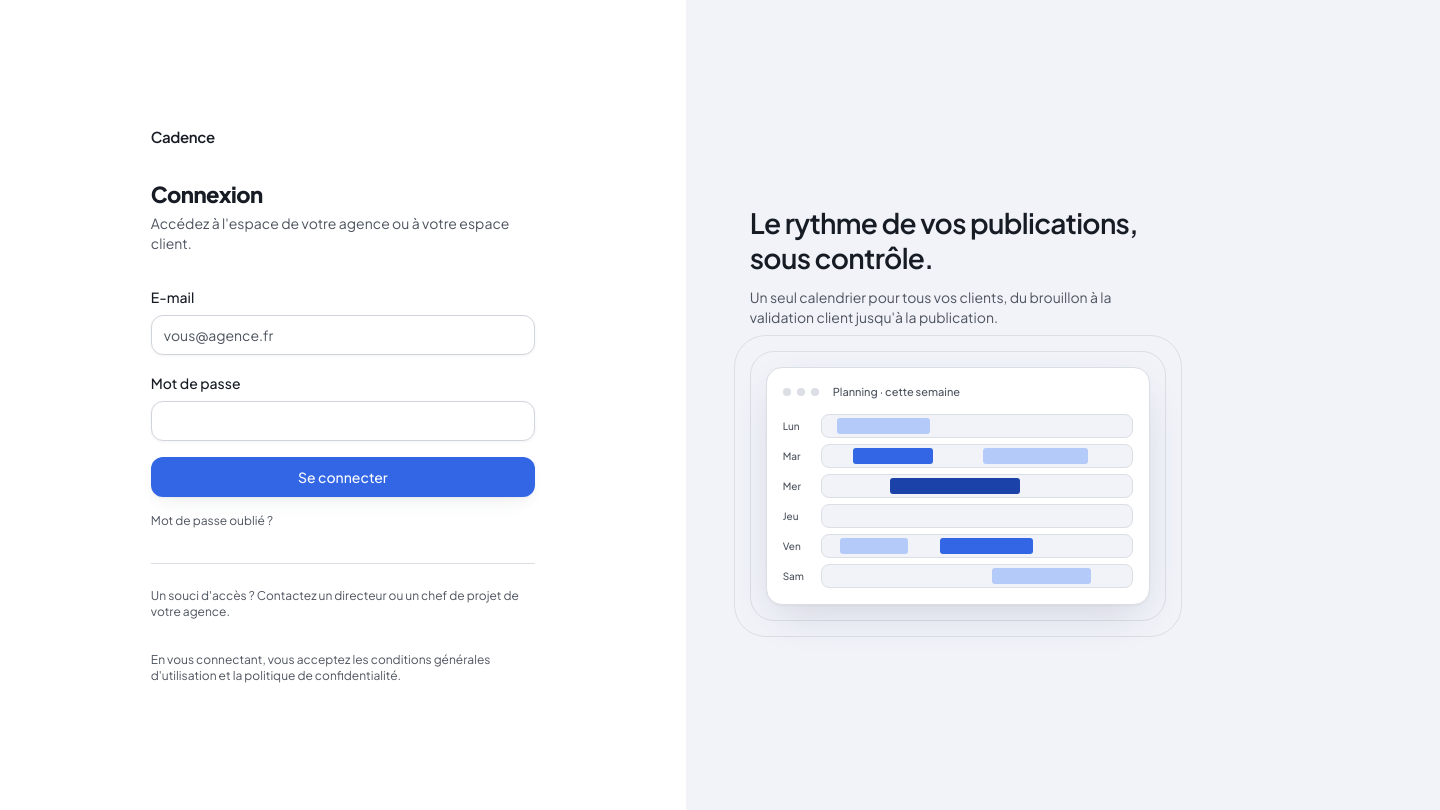
Test case: LoginPage › affiche le message pour des identifiants invalides
The width and height of the screenshot is (1440, 810).
Type "x@example.test" into the field labelled "E-mail".
click(343, 335); type("x@example.test")  # box [151,315,535,355]
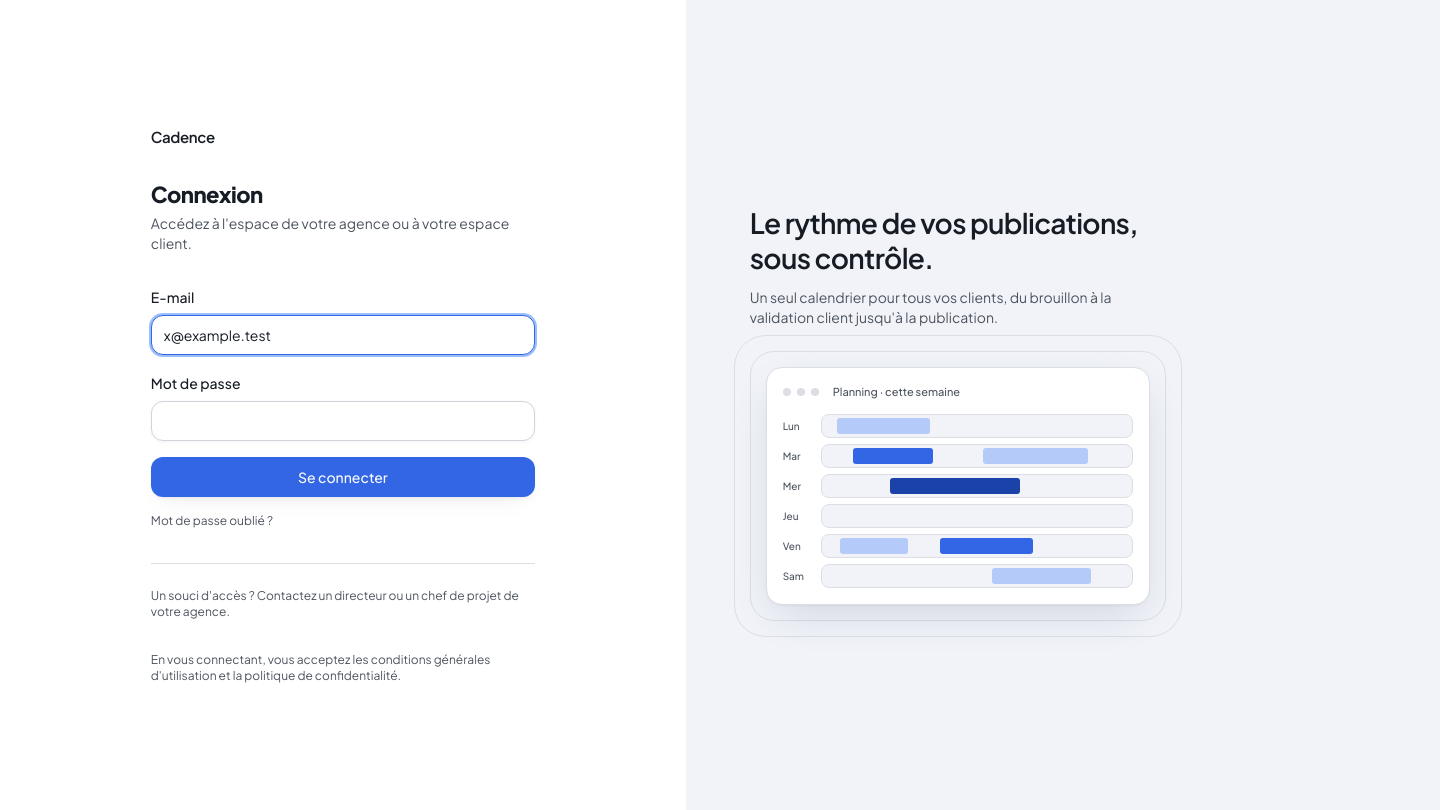
Type "bad" into the password field labelled "Mot de passe".
click(343, 421); type("bad")  # box [151,401,535,441]
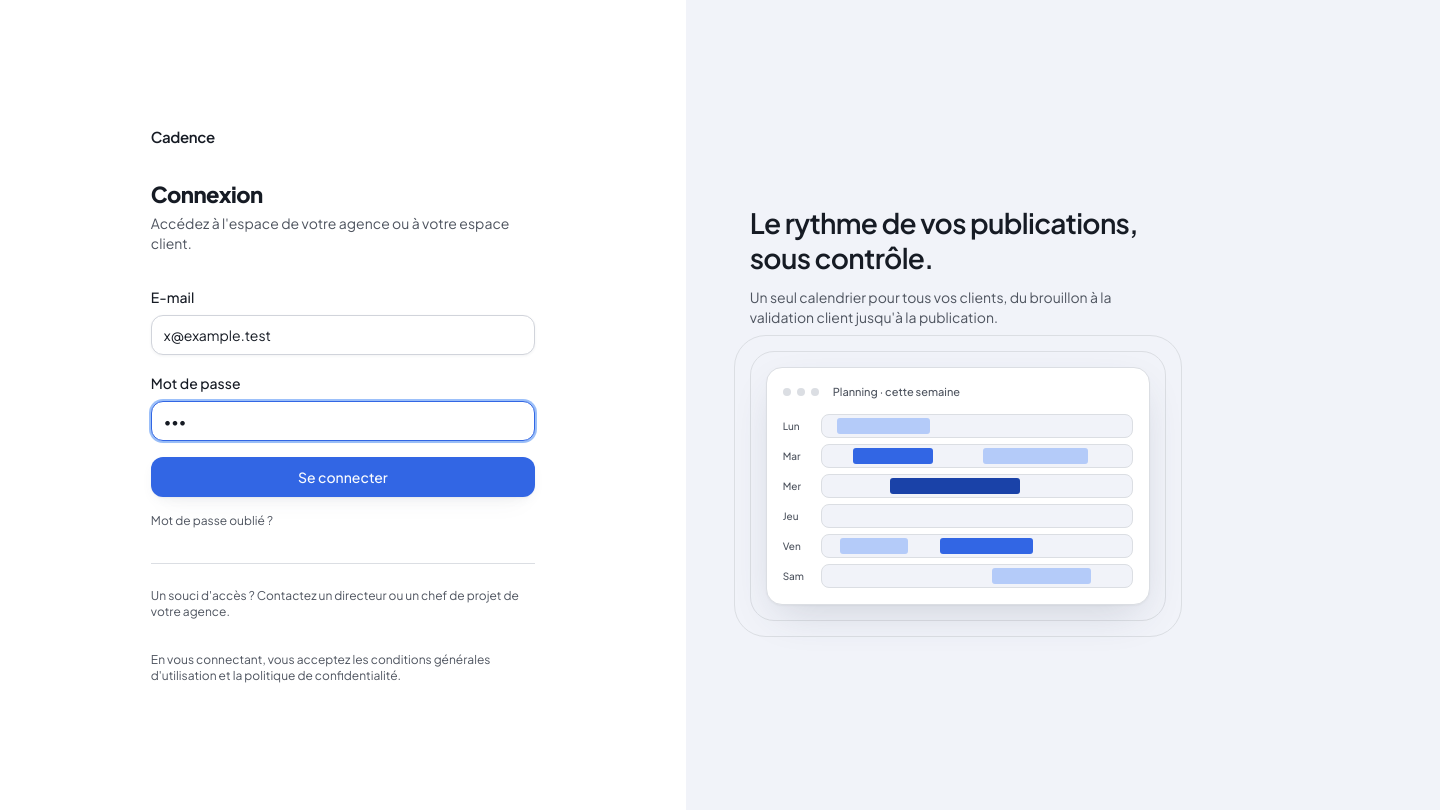
Click the button "Se connecter".
click(343, 477)  # box [151,457,535,497]
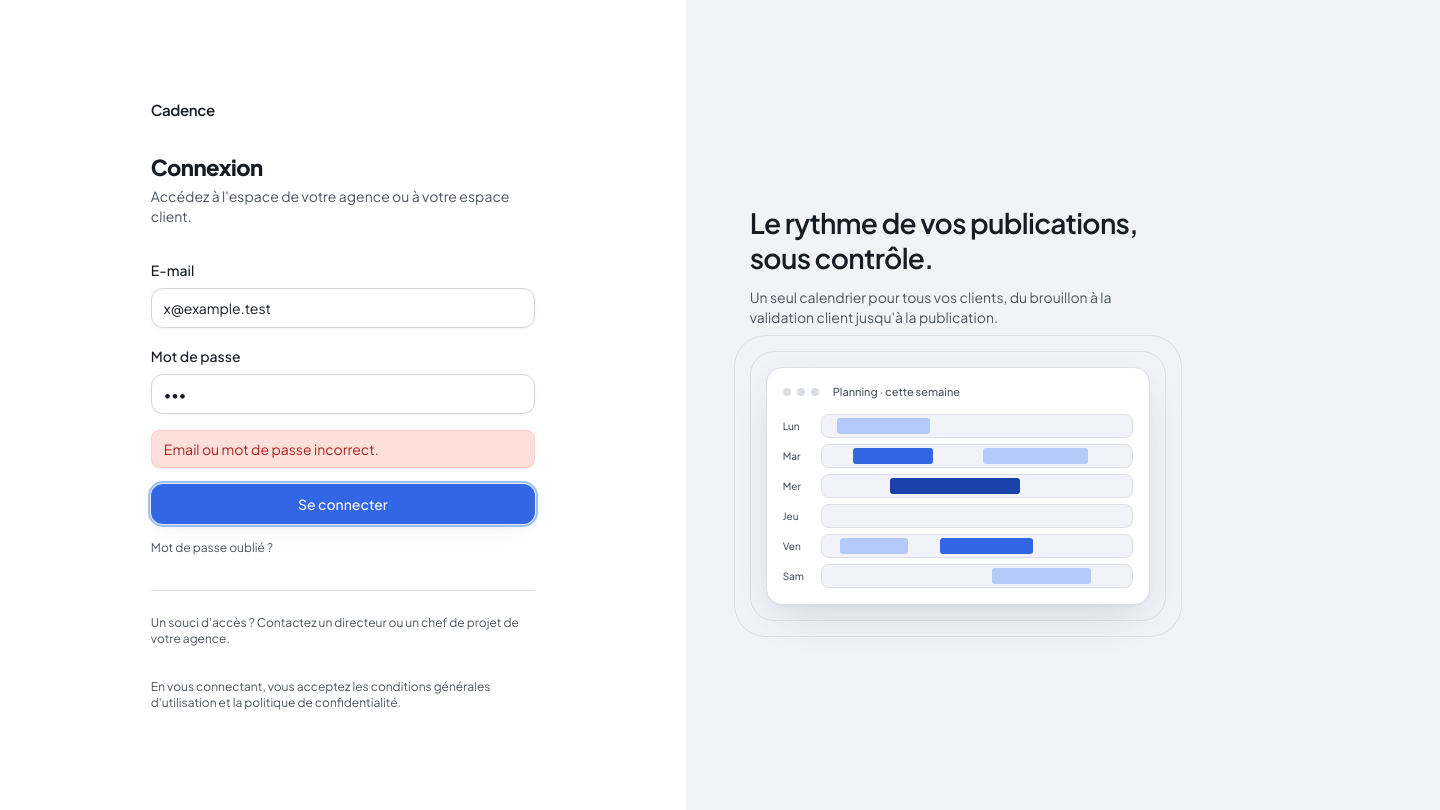
Expected: the text "Email ou mot de passe incorrect." is shown, [151,430,535,468]
